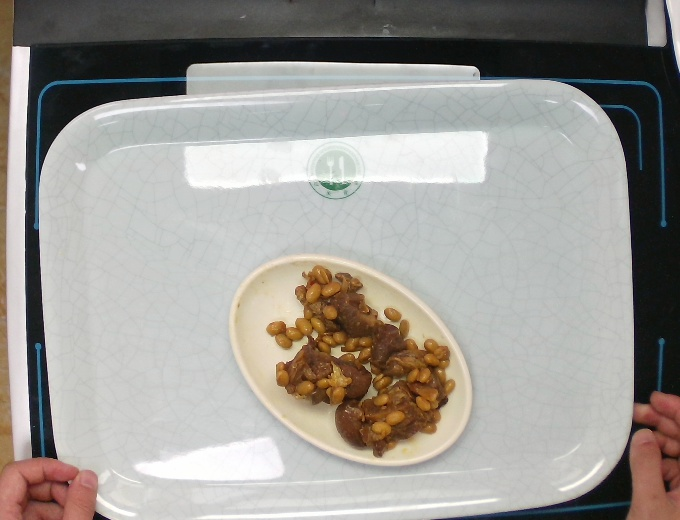JYsf-Tuo_Yuan_Wan: (225, 252, 479, 474)
